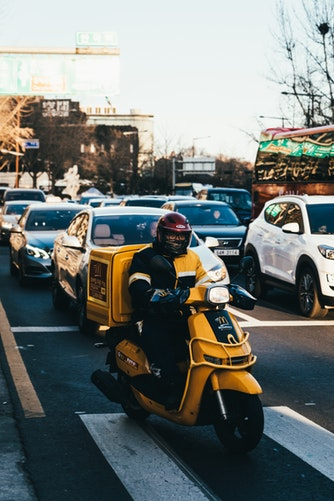helmet: (150, 216, 197, 247)
